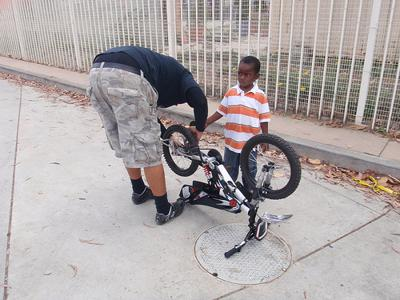person: (85, 43, 208, 227)
